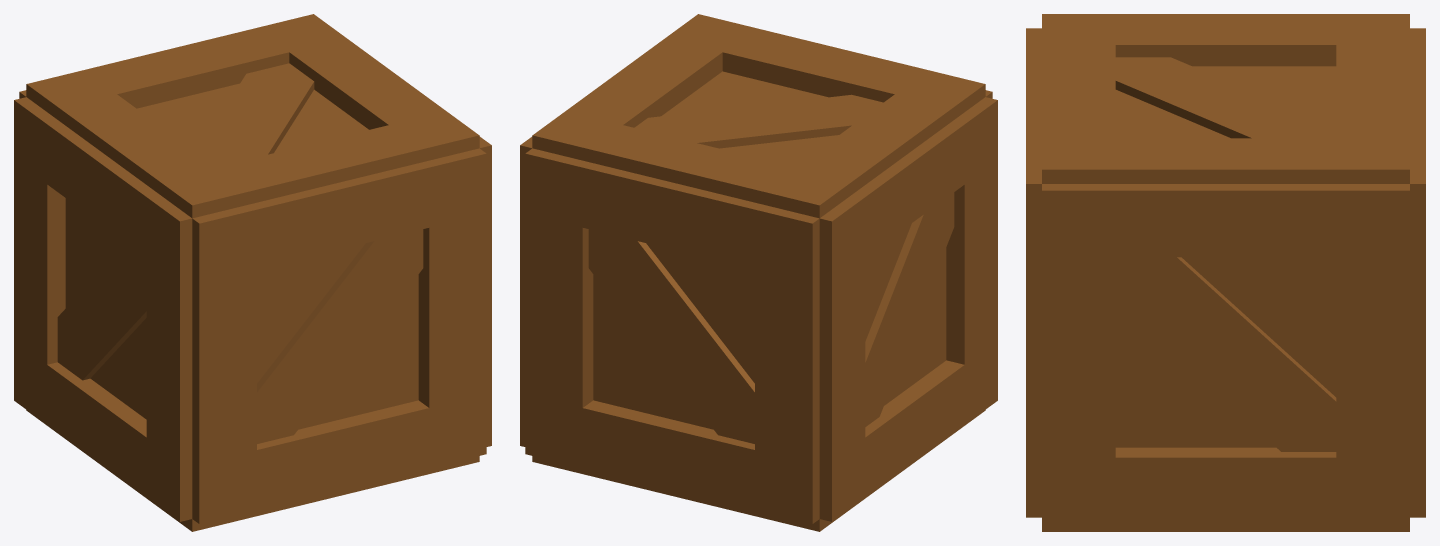
File: Box_Old.fbx
3 views of the same model, side by side, from view 1: azimuth 30°, elevation 25°; view 2: azimuth 150°, elevation 25°; view 3: azimuth 270°, elevation 25° (orthographic). The views are drawn at different scales.
Parts seen in each view (by area): view 1: Box; view 2: Box; view 3: Box.
Part boxes in pixels (box(x1,y1,x2,y2)): Box: box(14, 14, 491, 531); Box: box(520, 14, 997, 531); Box: box(1026, 14, 1425, 531).
Size of the model in its own units: 61.93 by 61.93 by 61.93.
